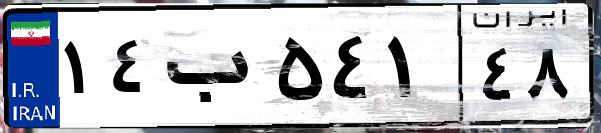1: (385, 28, 445, 110), (57, 26, 110, 100)
4: (330, 28, 385, 110), (475, 38, 525, 113), (110, 28, 158, 98)
5: (270, 28, 330, 110)
8: (525, 38, 570, 115)
ب: (158, 20, 270, 120)
